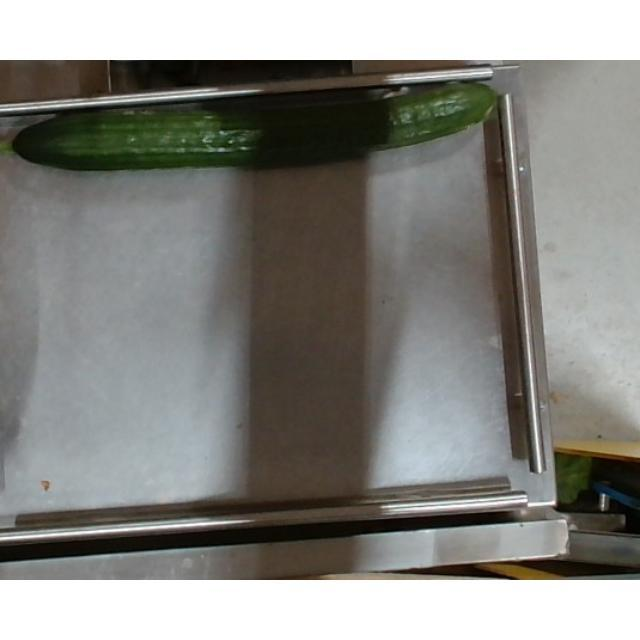cucumber: (2, 80, 502, 170)
